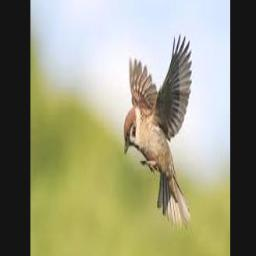Sparrow: (123, 34, 191, 230)
